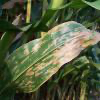Corn Gray leaf spot: (6, 21, 99, 94)
